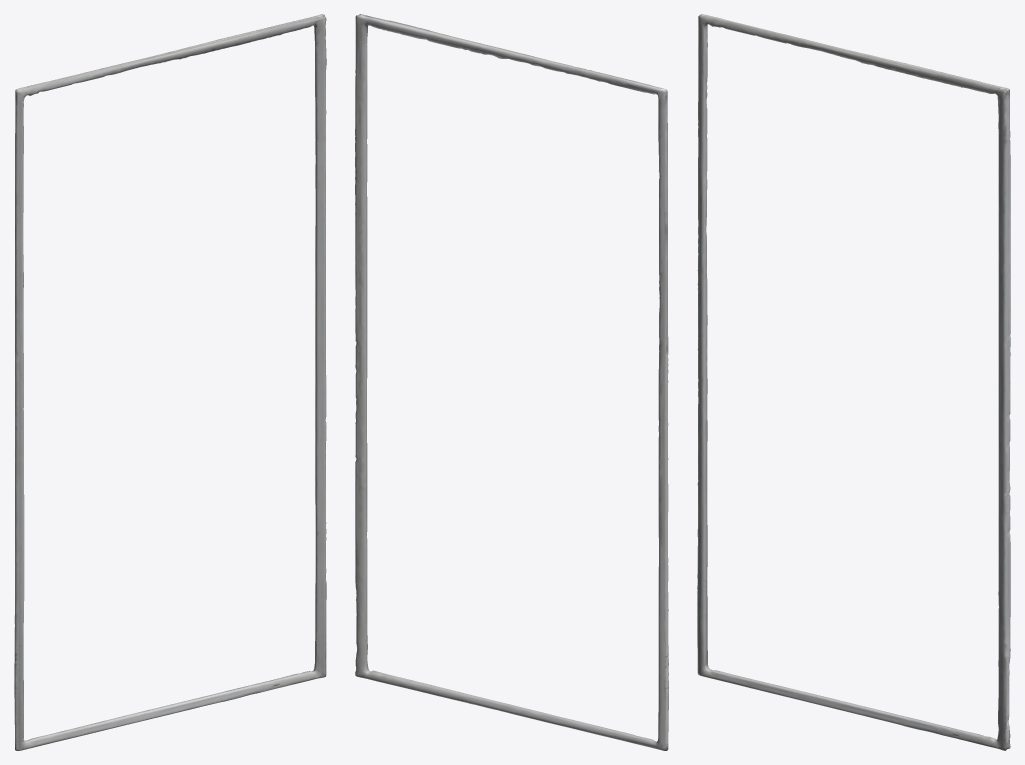
The model's file is Door_adge_1127165725_texture.fbx.
3 renders of one model, left to right at view 1: azimuth 30°, elevation 25°; view 2: azimuth 150°, elevation 25°; view 3: azimuth 330°, elevation 25°, orthographic.
Parts seen in each view (by area): view 1: Mesh_0; view 2: Mesh_0; view 3: Mesh_0.
Part boxes in pixels (x1,y1,x2,y2): Mesh_0: (14, 14, 326, 750); Mesh_0: (355, 14, 668, 750); Mesh_0: (697, 14, 1010, 750).
Bounding box in the file's own units: 98.87 × 201 × 2.44.
1 material, 1 textured.
